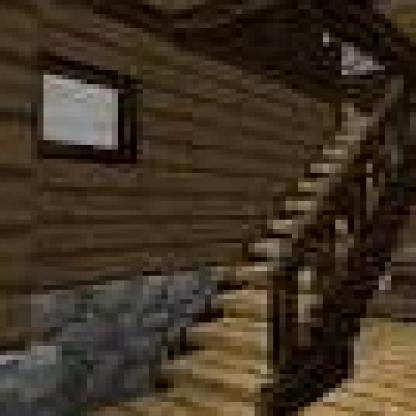stair: (147, 96, 396, 405)
